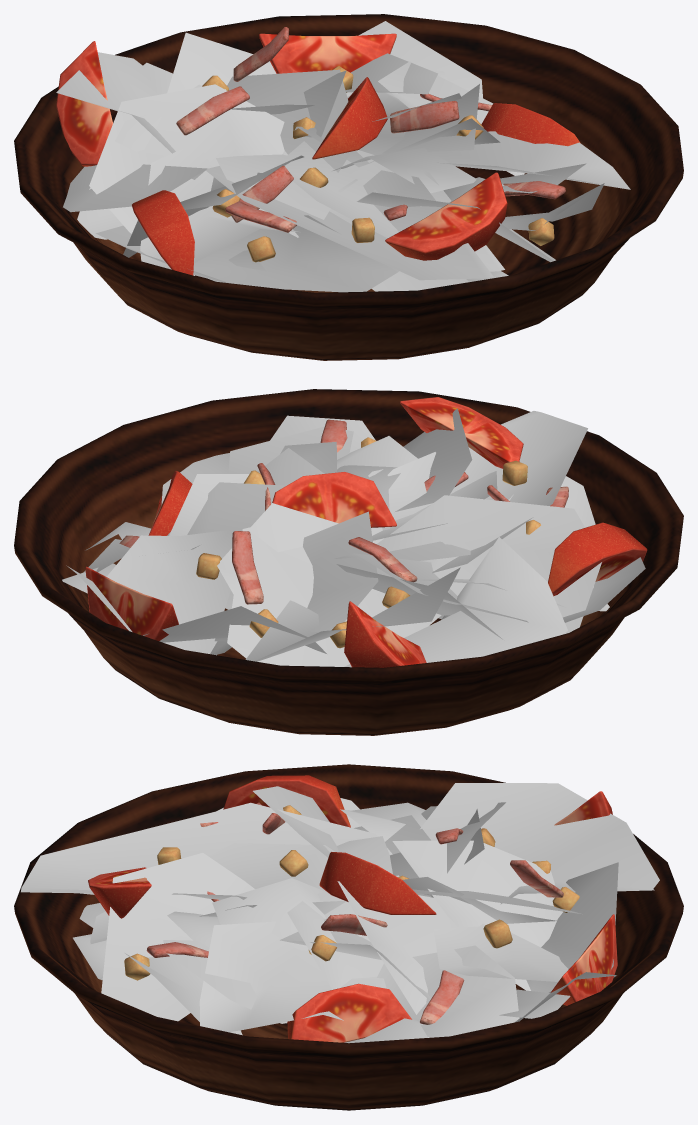
Rendered from Salad_B.fbx.
3 views of the same model, one above another, from view 1: azimuth 30°, elevation 25°; view 2: azimuth 150°, elevation 25°; view 3: azimuth 270°, elevation 25° (orthographic).
Parts seen in each view (by area): view 1: Salad_B; view 2: Salad_B; view 3: Salad_B.
Boxes of the visible parts, box(x1,y1,x2,y2) form: Salad_B: box(14, 14, 683, 360); Salad_B: box(14, 389, 683, 735); Salad_B: box(14, 764, 683, 1110).
Size of the model in its own units: 0.4157 by 0.1107 by 0.4157.
